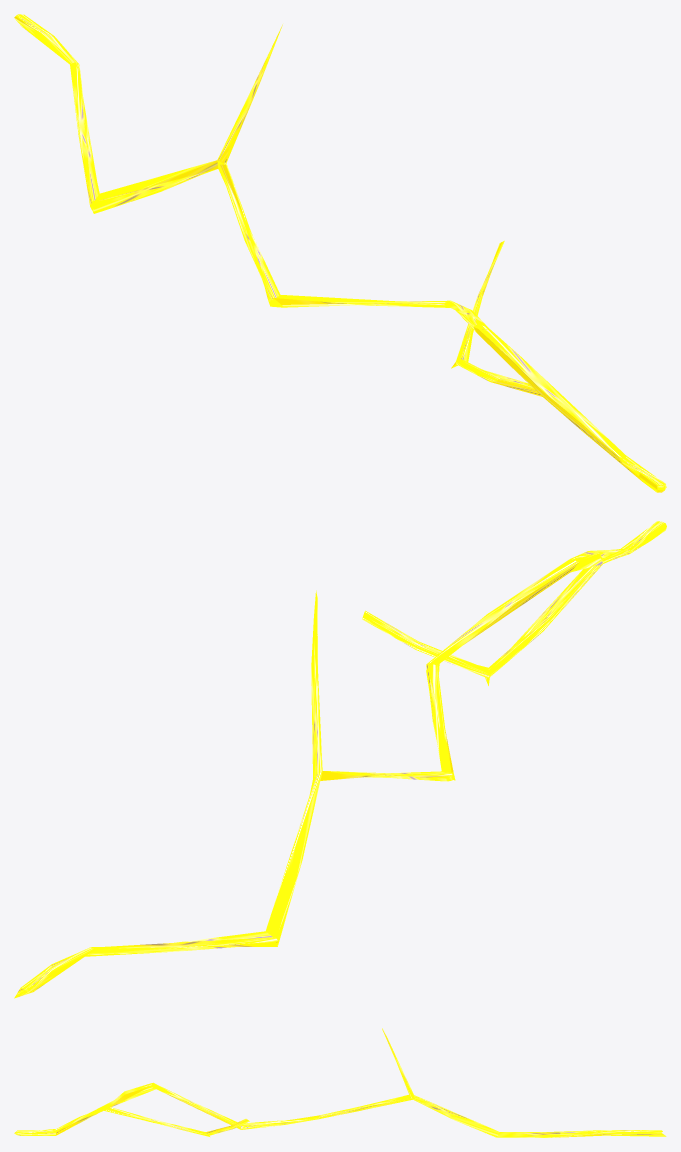
File: lightning.glb
3 views of the same model, one above another, from view 1: azimuth 30°, elevation 25°; view 2: azimuth 150°, elevation 25°; view 3: azimuth 270°, elevation 25° (orthographic). The views are drawn at different scales.
Visible parts, largest first — view 1: Cube; view 2: Cube; view 3: Cube.
Part boxes in pixels (box(x1,y1,x2,y2)): Cube: box(14, 14, 666, 492); Cube: box(14, 521, 666, 998); Cube: box(14, 1028, 666, 1137).
Bounding box in the file's own units: 9.58 × 14.37 × 65.77.
Materials: 1 (1 with a texture image).
